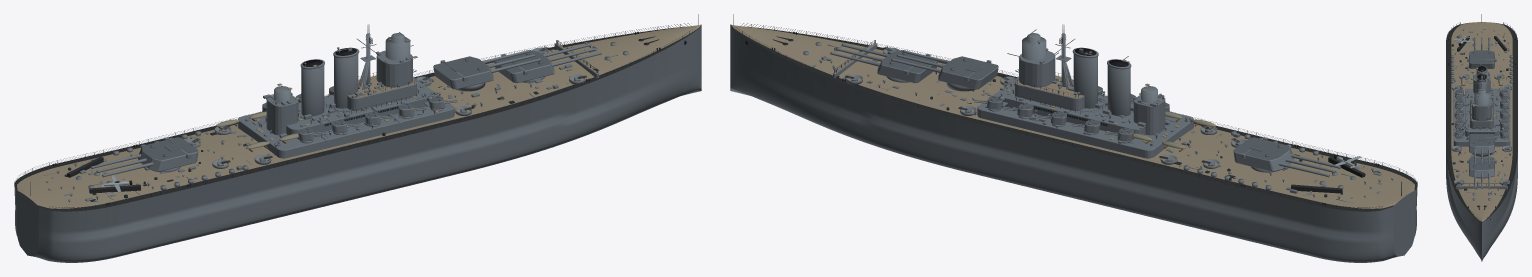
File: north_carolina.glb
3 views of the same model, side by side, from view 1: azimuth 30°, elevation 25°; view 2: azimuth 150°, elevation 25°; view 3: azimuth 270°, elevation 25° (orthographic). The views are drawn at different scales.
Parts seen in each view (by area): view 1: north_carolina, T_2_malla, T_1_malla, T_0_malla, C_2, C_1, C_0; view 2: north_carolina, T_2_malla, T_1_malla, T_0_malla, C_2, C_1, C_0; view 3: north_carolina, T_1_malla, T_0_malla, T_2_malla, C_0, C_1, C_2, T_6_malla, T_7_malla, T_12_malla, T_5_malla, T_10_malla (+5 smaller).
Boxes of the visible parts, box(x1,y1,x2,y2) form: north_carolina: box(14, 14, 701, 262); T_2_malla: box(138, 137, 198, 171); T_1_malla: box(433, 56, 493, 89); T_0_malla: box(494, 50, 554, 83); C_2: box(90, 154, 153, 177); C_1: box(482, 50, 540, 72); C_0: box(543, 43, 601, 66); north_carolina: box(730, 14, 1417, 262); T_2_malla: box(1233, 137, 1293, 171); T_1_malla: box(938, 56, 998, 89); T_0_malla: box(877, 50, 937, 83); C_2: box(1278, 154, 1341, 177); C_1: box(891, 50, 949, 72); C_0: box(830, 43, 888, 66); north_carolina: box(1446, 14, 1517, 261); T_1_malla: box(1467, 133, 1496, 153); T_0_malla: box(1467, 157, 1496, 177); T_2_malla: box(1467, 50, 1496, 68); C_0: box(1474, 172, 1489, 189); C_1: box(1474, 149, 1489, 165); C_2: box(1474, 37, 1489, 50); T_6_malla: box(1500, 99, 1508, 108); T_7_malla: box(1500, 89, 1508, 98); T_12_malla: box(1455, 89, 1463, 98); T_5_malla: box(1500, 109, 1508, 118); T_10_malla: box(1455, 109, 1463, 118).
Bounding box in the file's own units: 222 × 46.5 × 33.
